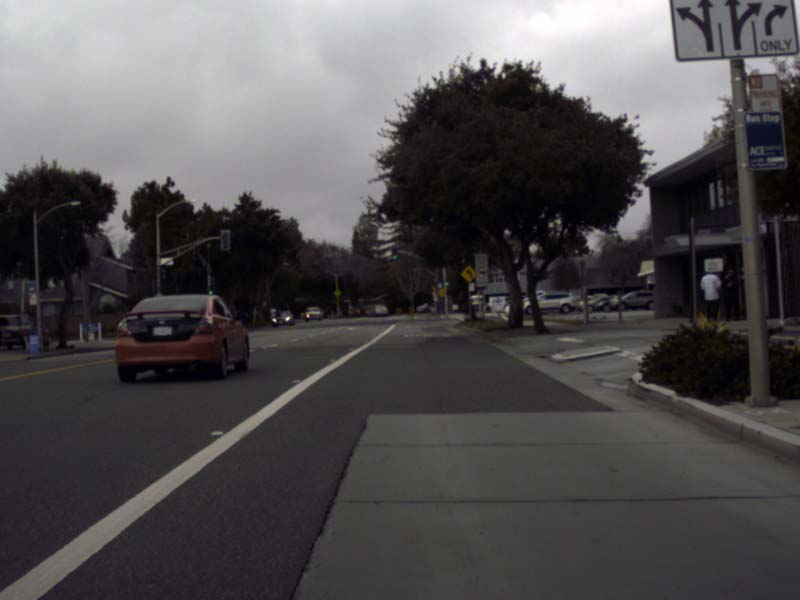Green: (206, 281, 214, 300), (390, 245, 397, 260), (445, 278, 448, 287)
